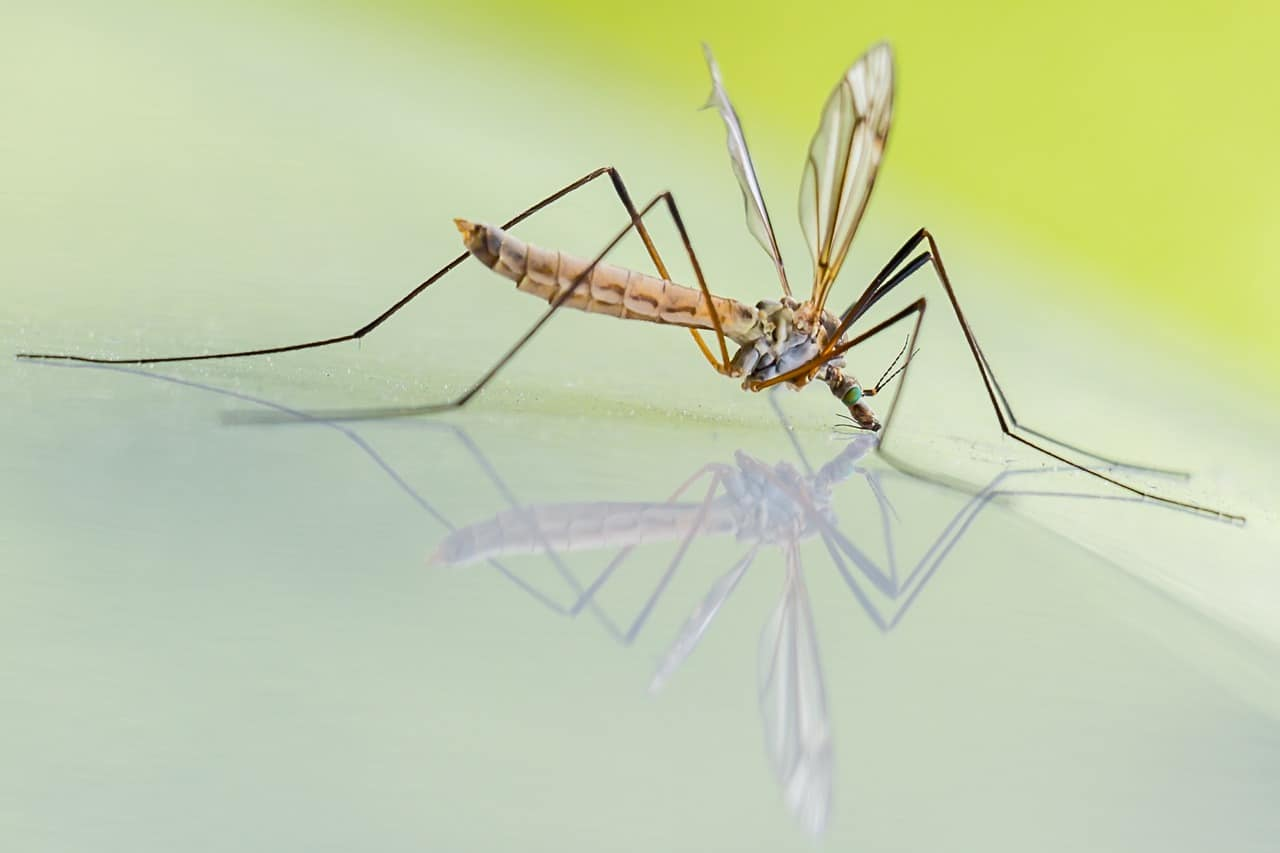mosquito: (334, 27, 1251, 557)
